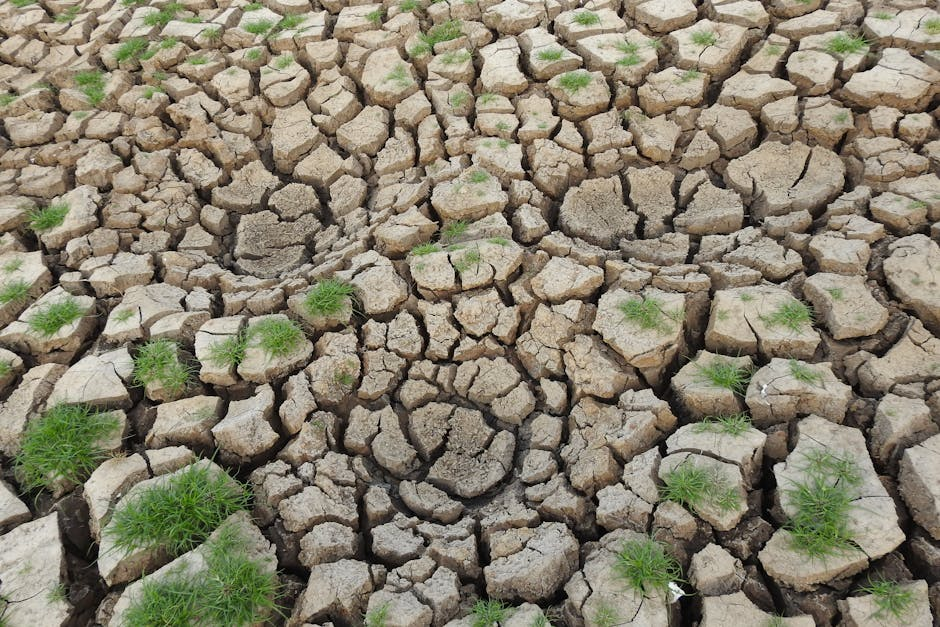网状裂隙: (246, 350, 660, 578), (79, 68, 401, 321), (487, 97, 883, 300)
